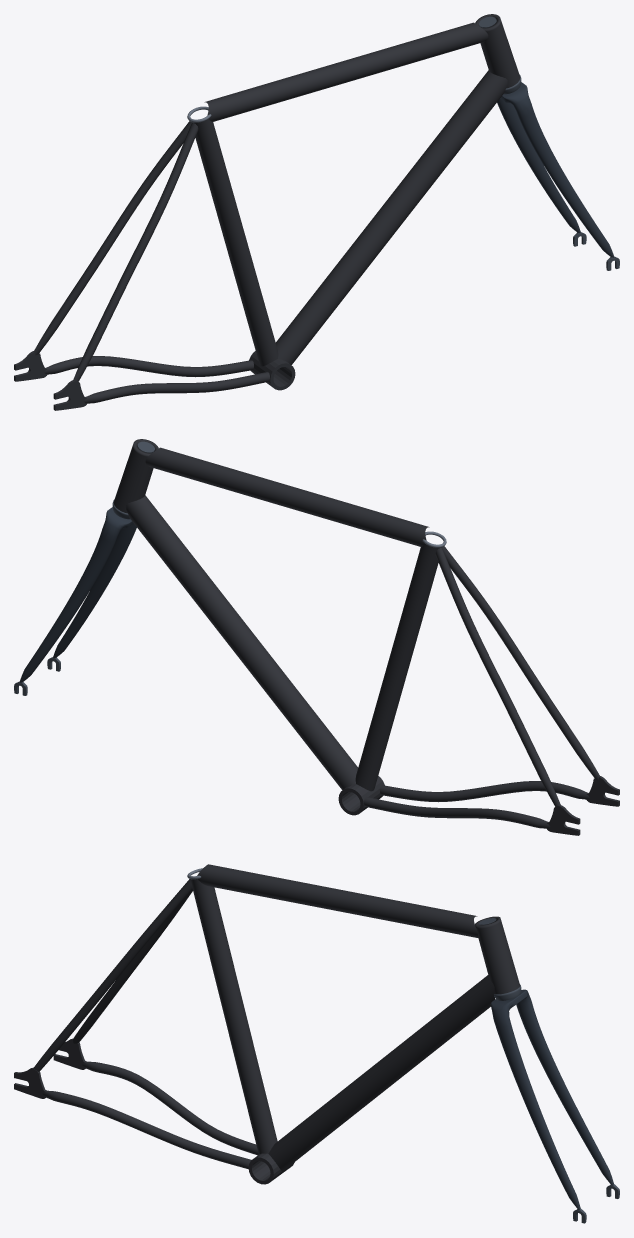
File: state-black-label-v3-49.glb
3 views of the same model, one above another, from view 1: azimuth 30°, elevation 25°; view 2: azimuth 150°, elevation 25°; view 3: azimuth 330°, elevation 25° (orthographic).
Parts seen in each view (by area): view 1: paint_down, paint_top, paint_seat, paint_seatstay_1, paint_seatstay_-1, fork_blade_1, paint_chainstay_-1, paint_chainstay_1, fork_blade_-1, paint_head, paint_bottom_bracket, rear_dropout_1 (+1 smaller); view 2: paint_down, paint_top, paint_seat, paint_seatstay_-1, paint_seatstay_1, fork_blade_-1, paint_chainstay_1, paint_chainstay_-1, fork_blade_1, paint_head, paint_bottom_bracket, rear_dropout_-1 (+1 smaller); view 3: paint_down, paint_top, paint_seat, fork_blade_1, fork_blade_-1, paint_chainstay_1, paint_seatstay_1, paint_head, paint_chainstay_-1, paint_seatstay_-1, paint_bottom_bracket, rear_dropout_1 (+2 smaller).
Part boxes in pixels (left/top/right/bottom): paint_down: left=276, top=70, right=507, bottom=364; paint_top: left=204, top=22, right=488, bottom=121; paint_seat: left=191, top=119, right=278, bottom=366; paint_seatstay_1: left=73, top=122, right=198, bottom=381; paint_seatstay_-1: left=33, top=121, right=191, bottom=355; fork_blade_1: left=516, top=104, right=613, bottom=257; paint_chainstay_-1: left=44, top=356, right=253, bottom=377; paint_chainstay_1: left=84, top=372, right=269, bottom=403; fork_blade_-1: left=497, top=98, right=580, bottom=233; paint_head: left=475, top=14, right=520, bottom=88; paint_bottom_bracket: left=249, top=351, right=295, bottom=390; rear_dropout_1: left=53, top=380, right=87, bottom=410; paint_down: left=126, top=495, right=357, bottom=789; paint_top: left=145, top=447, right=429, bottom=546; paint_seat: left=355, top=544, right=442, bottom=791; paint_seatstay_-1: left=435, top=547, right=560, bottom=806; paint_seatstay_1: left=442, top=546, right=600, bottom=780; fork_blade_-1: left=20, top=529, right=117, bottom=682; paint_chainstay_1: left=380, top=781, right=589, bottom=802; paint_chainstay_-1: left=364, top=797, right=550, bottom=828; fork_blade_1: left=53, top=523, right=136, bottom=658; paint_head: left=113, top=439, right=158, bottom=513; paint_bottom_bracket: left=338, top=776, right=384, bottom=815; rear_dropout_-1: left=546, top=805, right=580, bottom=835; paint_down: left=268, top=975, right=495, bottom=1170; paint_top: left=197, top=864, right=478, bottom=937; paint_seat: left=190, top=879, right=277, bottom=1154; fork_blade_1: left=494, top=1017, right=580, bottom=1209; fork_blade_-1: left=516, top=1001, right=613, bottom=1185; paint_chainstay_1: left=42, top=1090, right=251, bottom=1169; paint_seatstay_1: left=33, top=879, right=192, bottom=1071; paint_head: left=475, top=916, right=520, bottom=994; paint_chainstay_-1: left=82, top=1061, right=258, bottom=1155; paint_seatstay_-1: left=73, top=889, right=192, bottom=1043; paint_bottom_bracket: left=248, top=1153, right=294, bottom=1184; rear_dropout_1: left=14, top=1067, right=46, bottom=1098.
Size of the model in its own units: 1.03 by 0.5403 by 0.1438.
